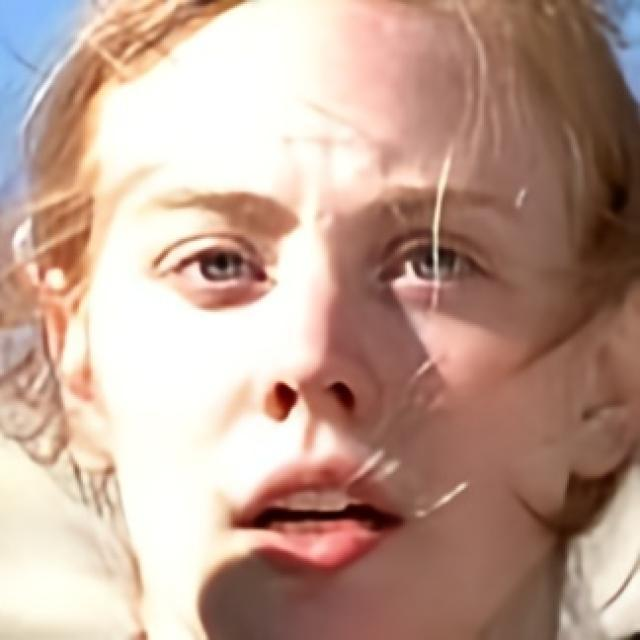fear: (91, 0, 568, 640)
